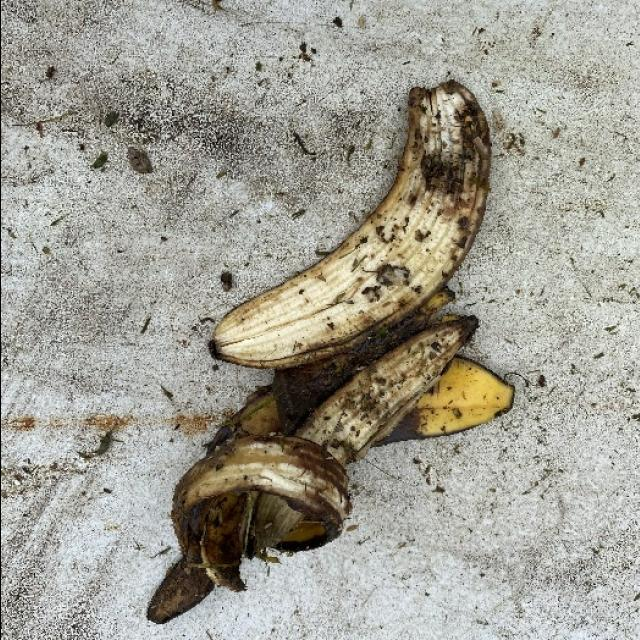organik: (144, 86, 510, 637)
